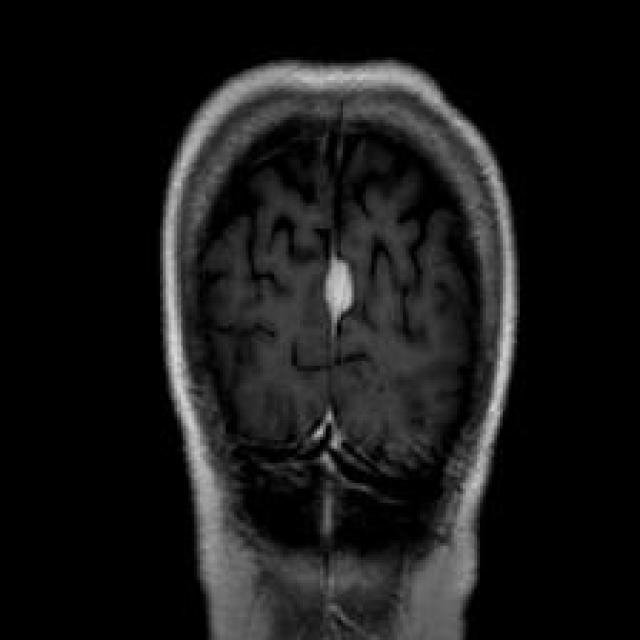meningioma_tumor: (310, 225, 362, 350)
